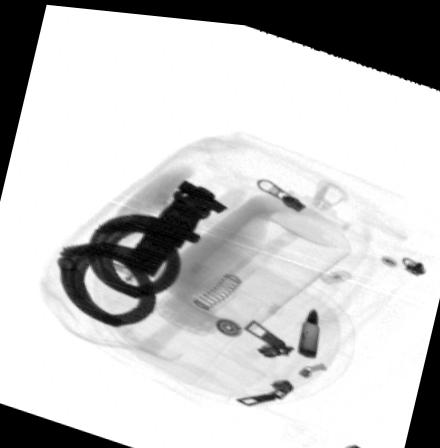Bullet: (297, 300, 321, 355)
HandCuffs: (53, 177, 228, 326)
